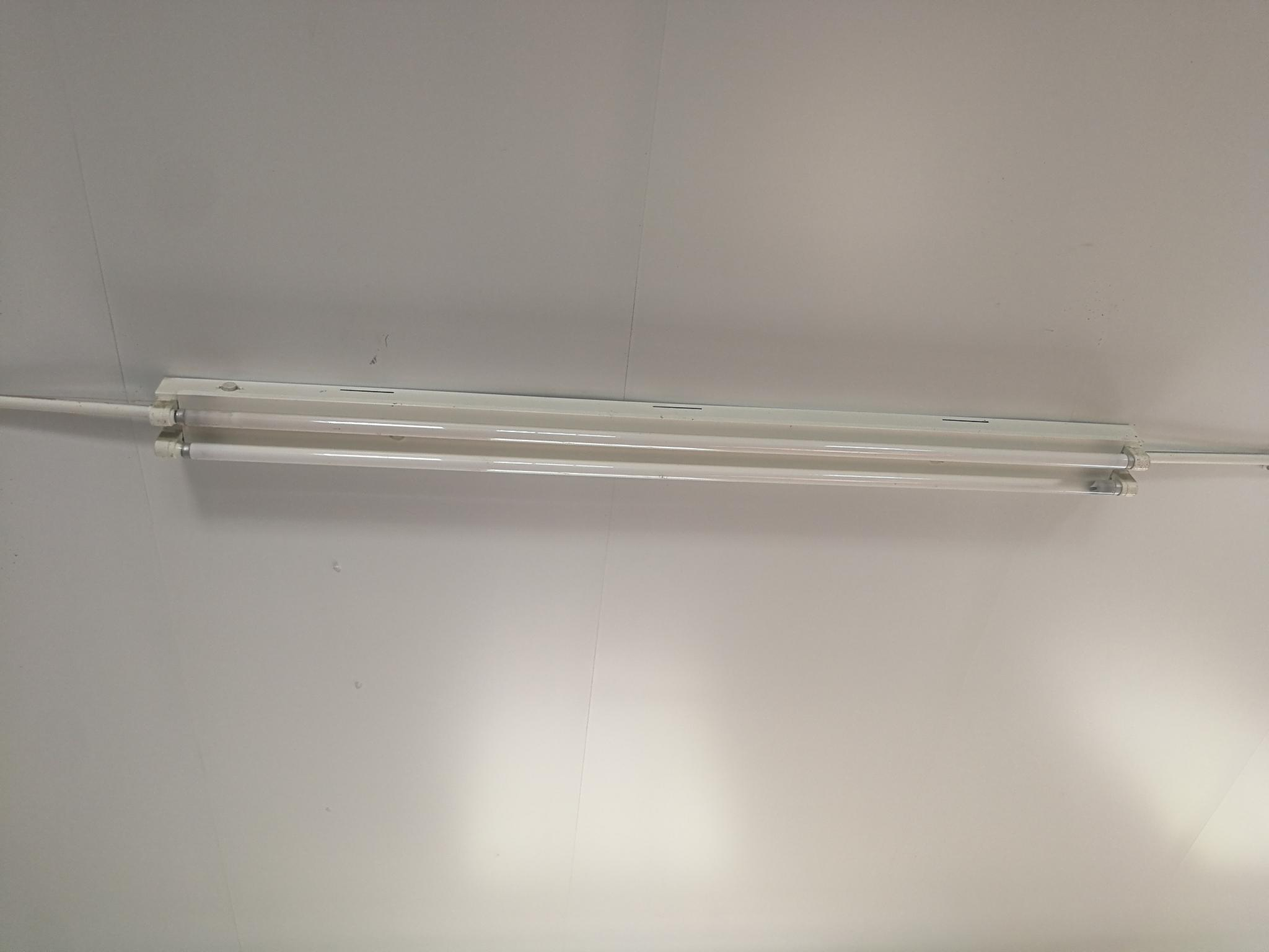light: (149, 374, 1148, 498)
